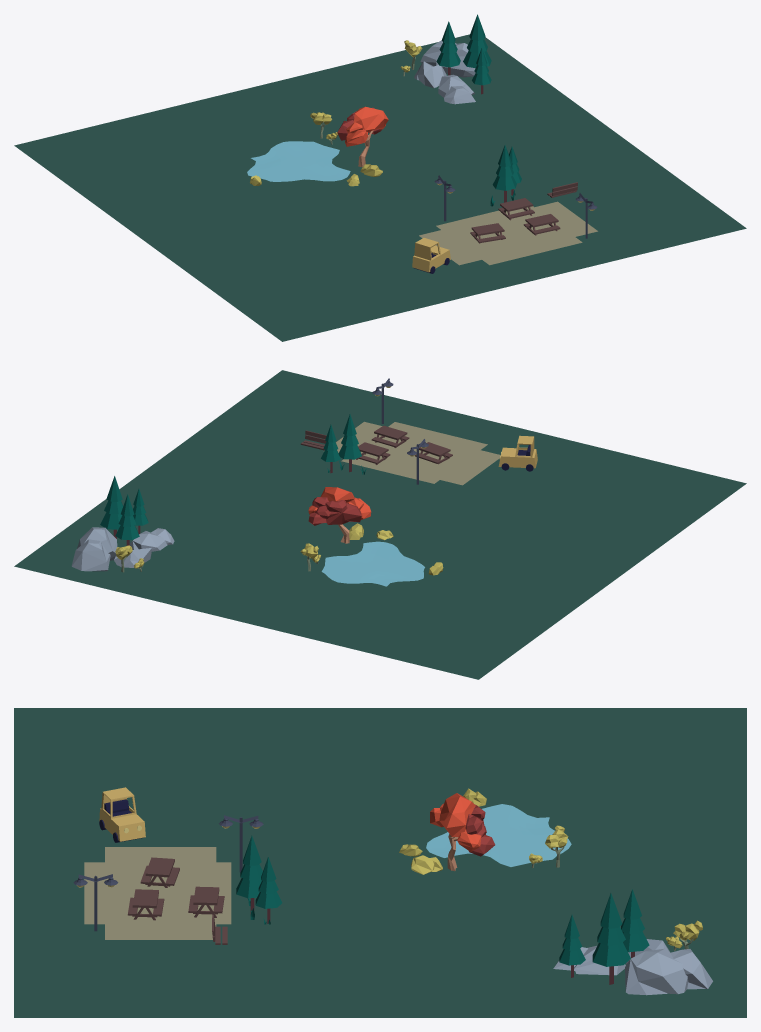
File: park_tile.fbx
3 views of the same model, one above another, from view 1: azimuth 30°, elevation 25°; view 2: azimuth 150°, elevation 25°; view 3: azimuth 270°, elevation 25° (orthographic). The views are drawn at different scales.
Parts seen in each view (by area): view 1: tile, yellow_car.005, Grid, red tree, yellow_car, rock.001, rock.002, tree.004, tree.001, tree.002, rock; view 2: tile, yellow_car.005, Grid, red tree, rock.002, yellow_car, tree.004, rock.001, tree.001, tree.002; view 3: tile, yellow_car.005, Grid, rock.002, red tree, yellow_car, tree.004, tree.001, tree.002, picnic table.001, tree, picnic table.002 (+7 smaller).
Boxes of the visible parts, x1=… form: tile: x1=14, y1=34, x2=746, y2=341; yellow_car.005: x1=419, y1=201, x2=597, y2=265; Grid: x1=247, y1=141, x2=350, y2=181; red tree: x1=337, y1=106, x2=388, y2=167; yellow_car: x1=412, y1=238, x2=450, y2=273; rock.001: x1=438, y1=74, x2=475, y2=104; rock.002: x1=420, y1=40, x2=475, y2=77; tree.004: x1=463, y1=14, x2=491, y2=68; tree.001: x1=492, y1=145, x2=516, y2=202; tree.002: x1=436, y1=21, x2=460, y2=75; rock: x1=414, y1=61, x2=446, y2=88; tile: x1=14, y1=370, x2=746, y2=679; yellow_car.005: x1=324, y1=421, x2=500, y2=485; Grid: x1=321, y1=541, x2=424, y2=586; red tree: x1=308, y1=487, x2=371, y2=543; rock.002: x1=71, y1=527, x2=117, y2=571; yellow_car: x1=498, y1=435, x2=537, y2=471; tree.004: x1=100, y1=476, x2=123, y2=529; rock.001: x1=129, y1=528, x2=174, y2=551; tree.001: x1=338, y1=414, x2=361, y2=472; tree.002: x1=115, y1=494, x2=139, y2=545; tile: x1=14, y1=708, x2=746, y2=1017; yellow_car.005: x1=84, y1=847, x2=231, y2=939; Grid: x1=426, y1=804, x2=571, y2=866; rock.002: x1=625, y1=948, x2=712, y2=995; red tree: x1=430, y1=793, x2=495, y2=871; yellow_car: x1=99, y1=787, x2=145, y2=842; tree.004: x1=592, y1=893, x2=630, y2=966; tree.001: x1=236, y1=835, x2=262, y2=913; tree.002: x1=621, y1=889, x2=649, y2=958; picnic table.001: x1=140, y1=857, x2=179, y2=887; tree: x1=255, y1=857, x2=282, y2=923; picnic table.002: x1=127, y1=889, x2=164, y2=920.
Size of the model in its own units: 2000 by 430 by 2000.
